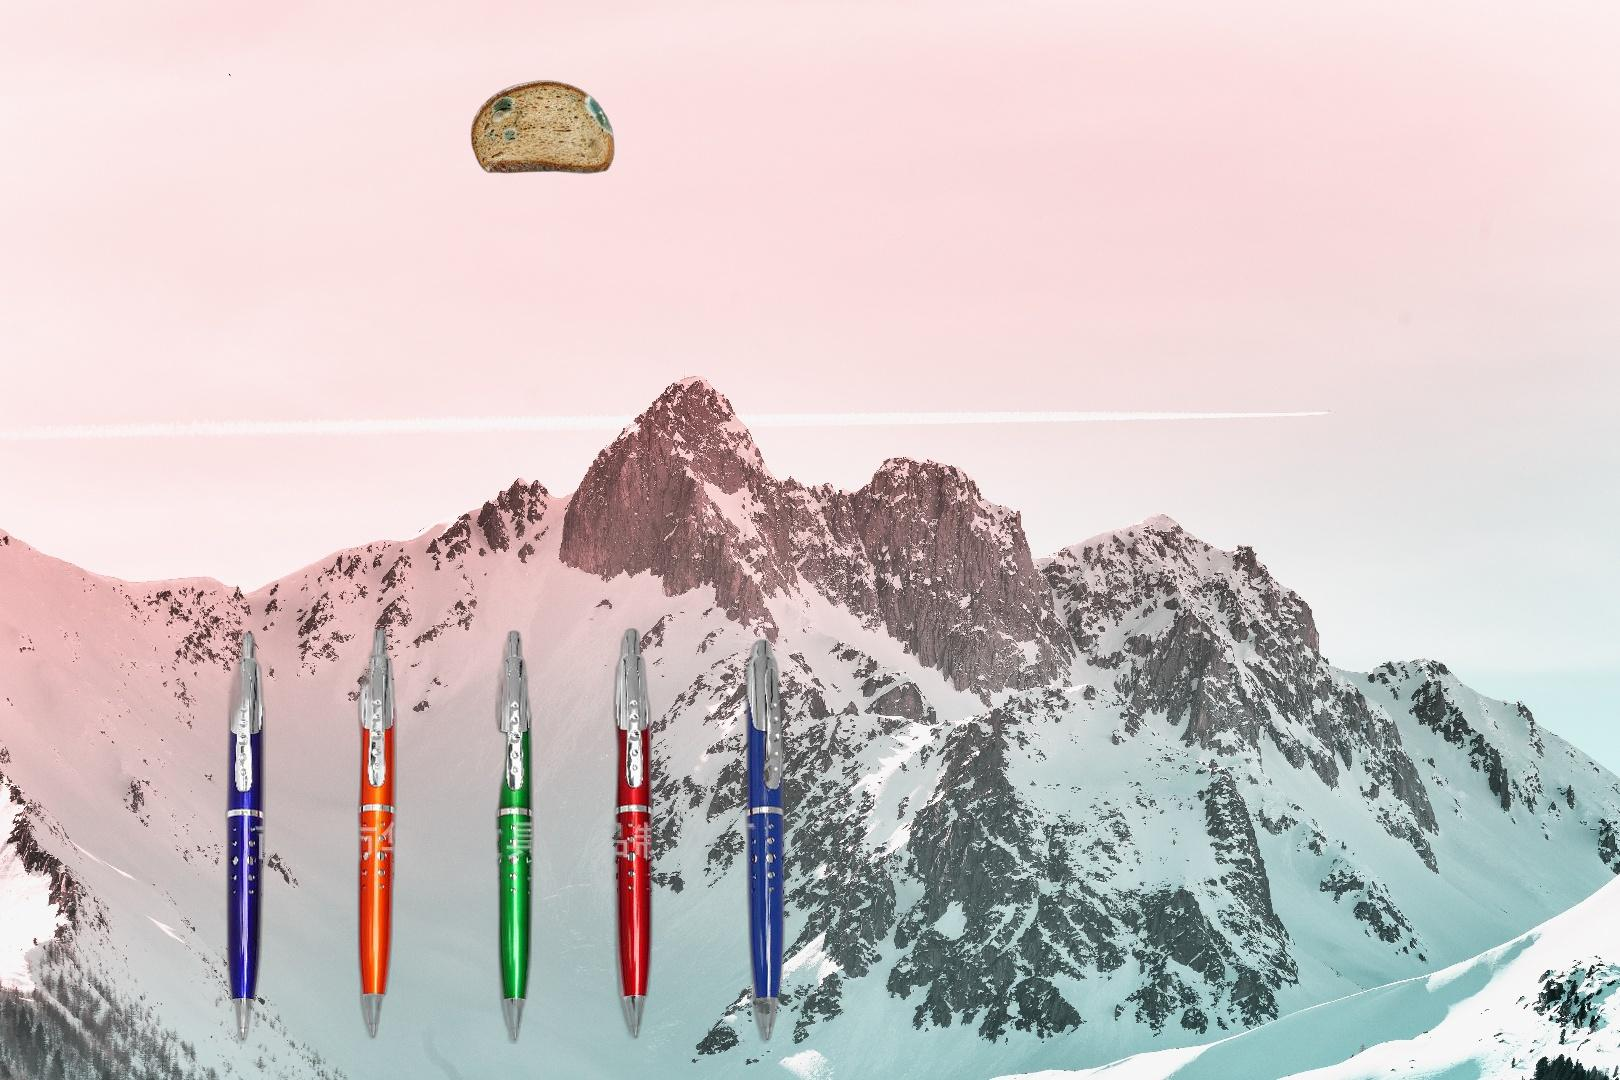biological: (468, 78, 617, 176)
penholder: (205, 624, 805, 1044)
